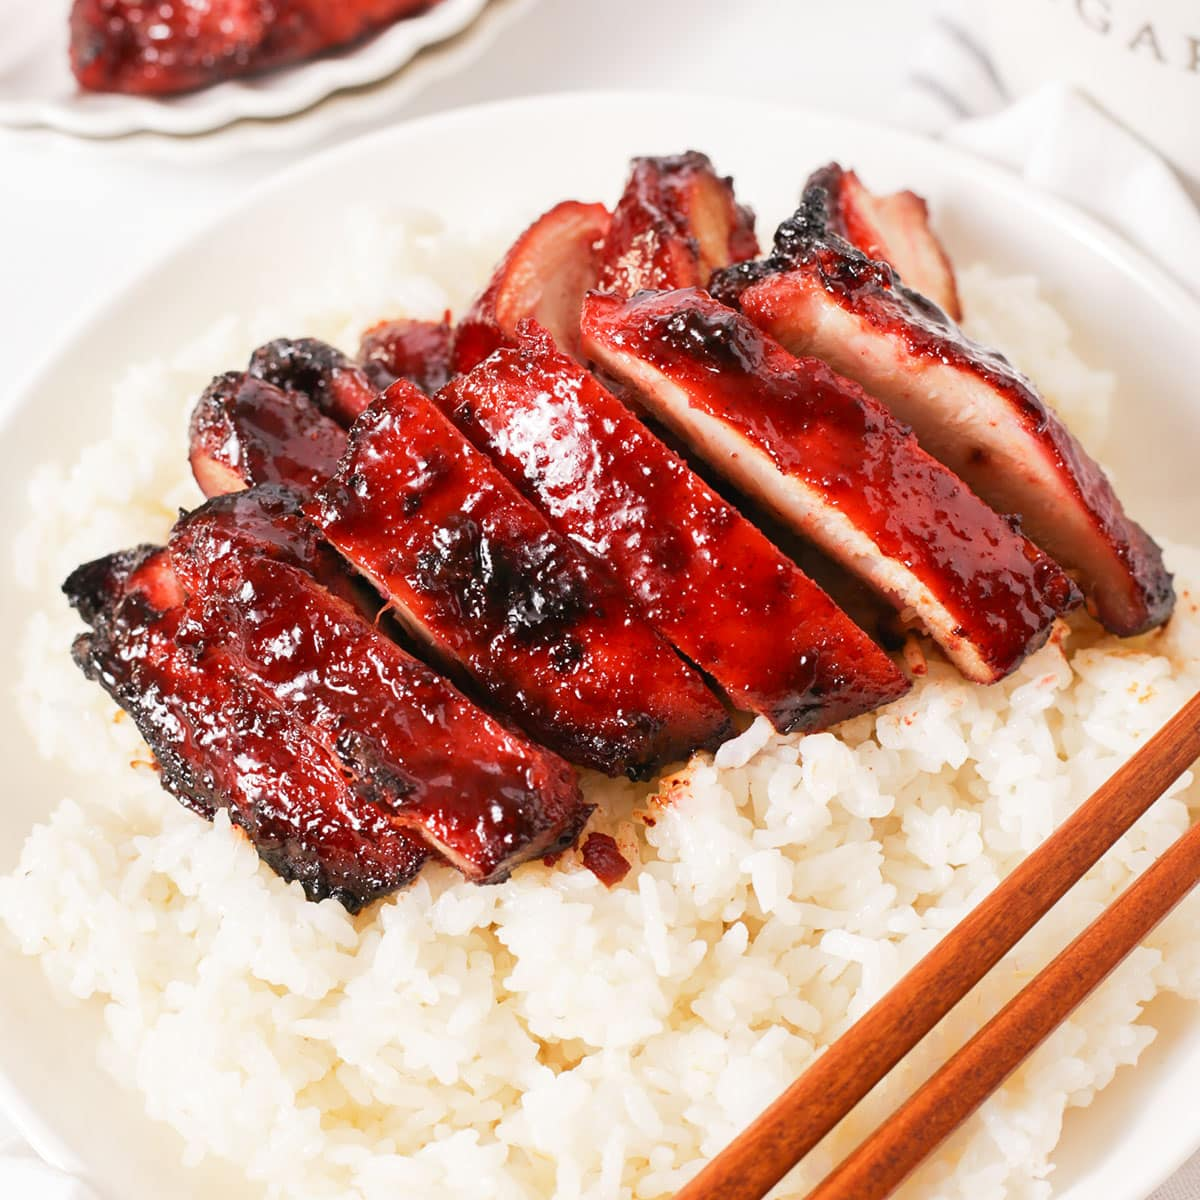char-siu: (70, 152, 1175, 902)
